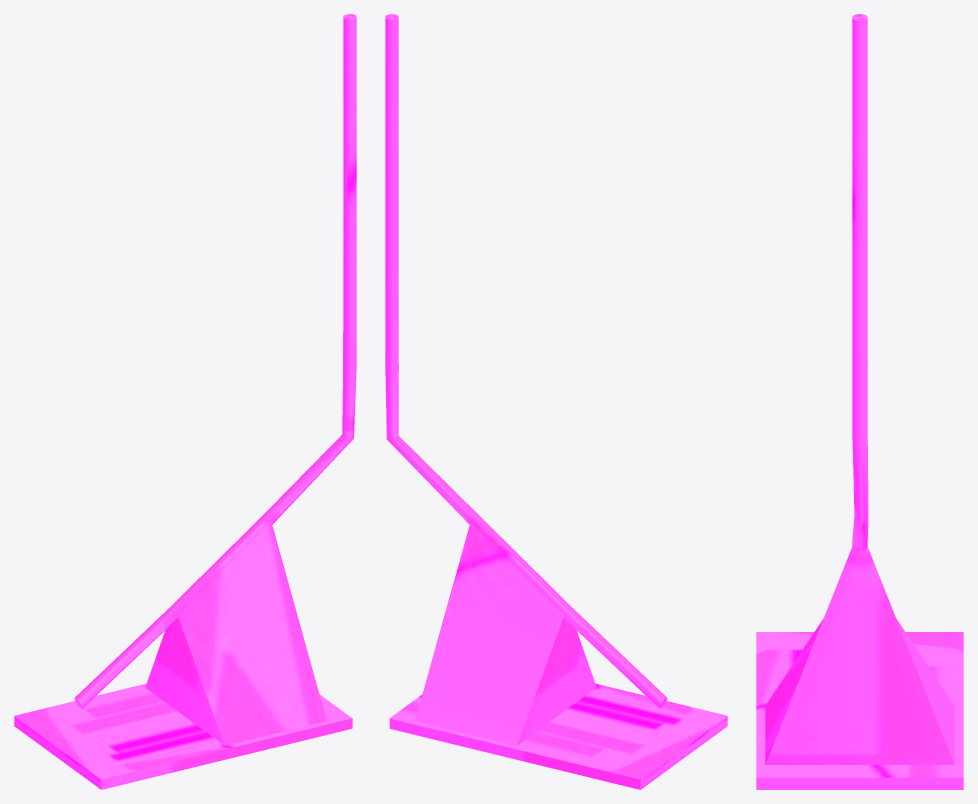
Rendered from defaultneoncornerp.glb.
3 views of the same model, side by side, from view 1: azimuth 30°, elevation 25°; view 2: azimuth 150°, elevation 25°; view 3: azimuth 270°, elevation 25° (orthographic). The views are drawn at different scales.
Visible parts, largest first — view 1: DefaultNeonCornerP; view 2: DefaultNeonCornerP; view 3: DefaultNeonCornerP.
Boxes of the visible parts, x1,y1,x2,y2 form: DefaultNeonCornerP: (14,14,356,789); DefaultNeonCornerP: (385,14,727,789); DefaultNeonCornerP: (756,14,963,789).
Size of the model in its own units: 1.15 by 2.46 by 0.5804.
Materials: 1 (1 with a texture image).
